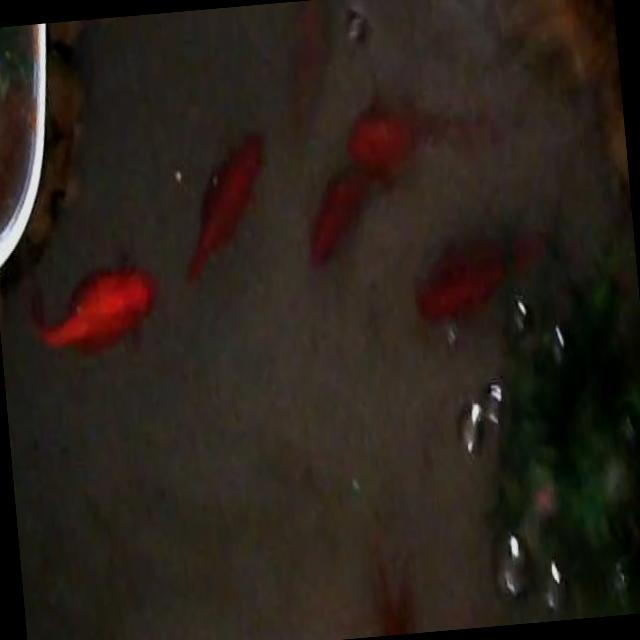fish: (172, 130, 276, 284), (408, 223, 552, 331), (348, 87, 504, 181), (27, 260, 162, 359), (300, 154, 396, 272), (278, 0, 337, 130), (359, 539, 418, 637)
